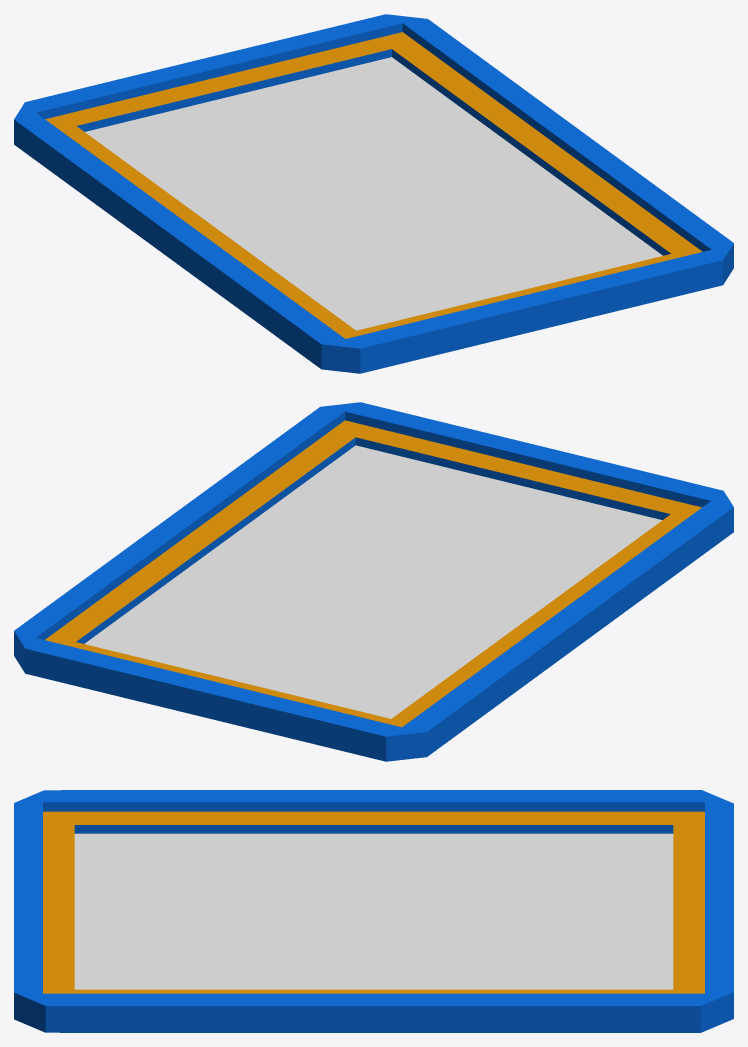
Rendered from SingleWallFrame.fbx.
3 renders of one model, top to bottom at view 1: azimuth 30°, elevation 25°; view 2: azimuth 150°, elevation 25°; view 3: azimuth 270°, elevation 25°, orthographic. The views are drawn at different scales.
Visible parts, largest first — view 1: Plane.002, Plane, Plane.001; view 2: Plane.002, Plane, Plane.001; view 3: Plane.002, Plane, Plane.001.
Part boxes in pixels (x1,y1,x2,y2): Plane.002: (85,57,662,330); Plane: (14,14,733,373); Plane.001: (45,32,702,338); Plane.002: (84,445,662,718); Plane: (14,402,733,761); Plane.001: (45,420,701,727); Plane.002: (74,833,673,989); Plane: (14,790,733,1032); Plane.001: (43,811,704,993).
Bounding box in the file's own units: 142 × 8.23 × 200.
